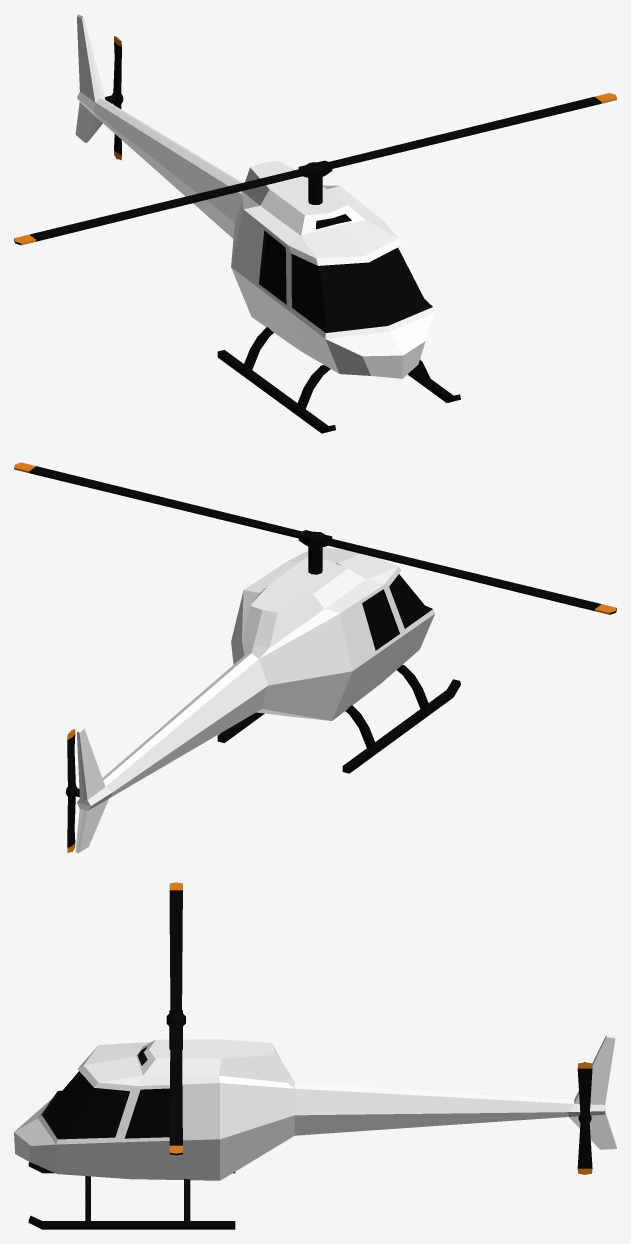
The picture shows the model from 3 angles, top to bottom: view 1: azimuth 30°, elevation 25°; view 2: azimuth 150°, elevation 25°; view 3: azimuth 270°, elevation 25°; orthographic projection. The views are drawn at different scales.
Parts seen in each view (by area): view 1: helicopter_2, blades_0, tail_rotor_1; view 2: helicopter_2, blades_0, tail_rotor_1; view 3: helicopter_2, blades_0, tail_rotor_1.
Boxes of the visible parts, bbox=[...] form: helicopter_2: bbox=[75, 14, 460, 433]; blades_0: bbox=[14, 93, 616, 245]; tail_rotor_1: bbox=[105, 36, 123, 160]; helicopter_2: bbox=[75, 547, 460, 853]; blades_0: bbox=[14, 462, 616, 614]; tail_rotor_1: bbox=[65, 729, 79, 852]; helicopter_2: bbox=[14, 1035, 616, 1229]; blades_0: bbox=[166, 882, 185, 1155]; tail_rotor_1: bbox=[577, 1062, 592, 1174].
Bounding box in the file's own units: 11.49 × 3.66 × 10.79.
1 material, 1 textured.
